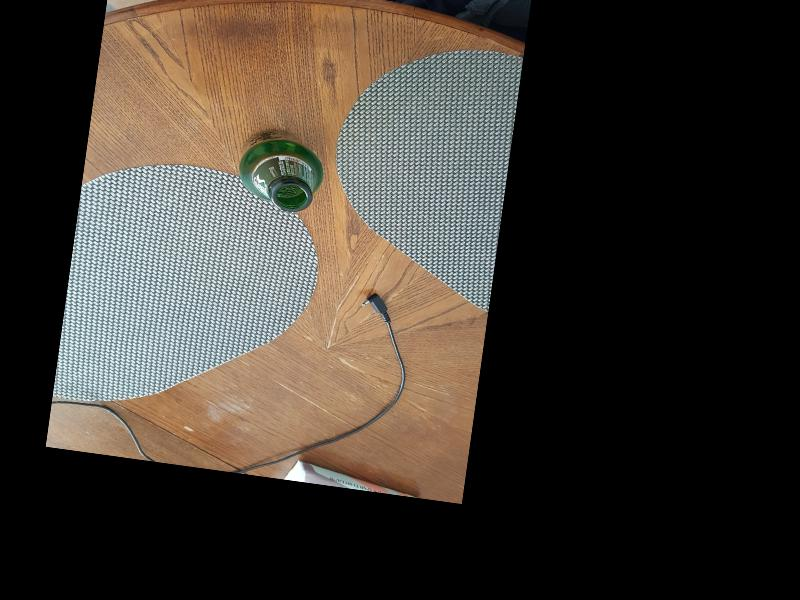Beer: (234, 126, 329, 215)
